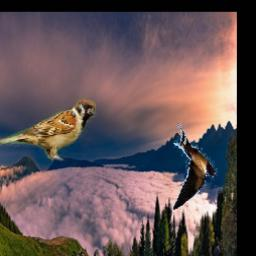Sparrow: (0, 96, 99, 162)
Swallow: (173, 123, 218, 210)
